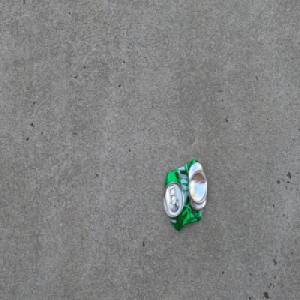SodaCan: (162, 158, 208, 232)
